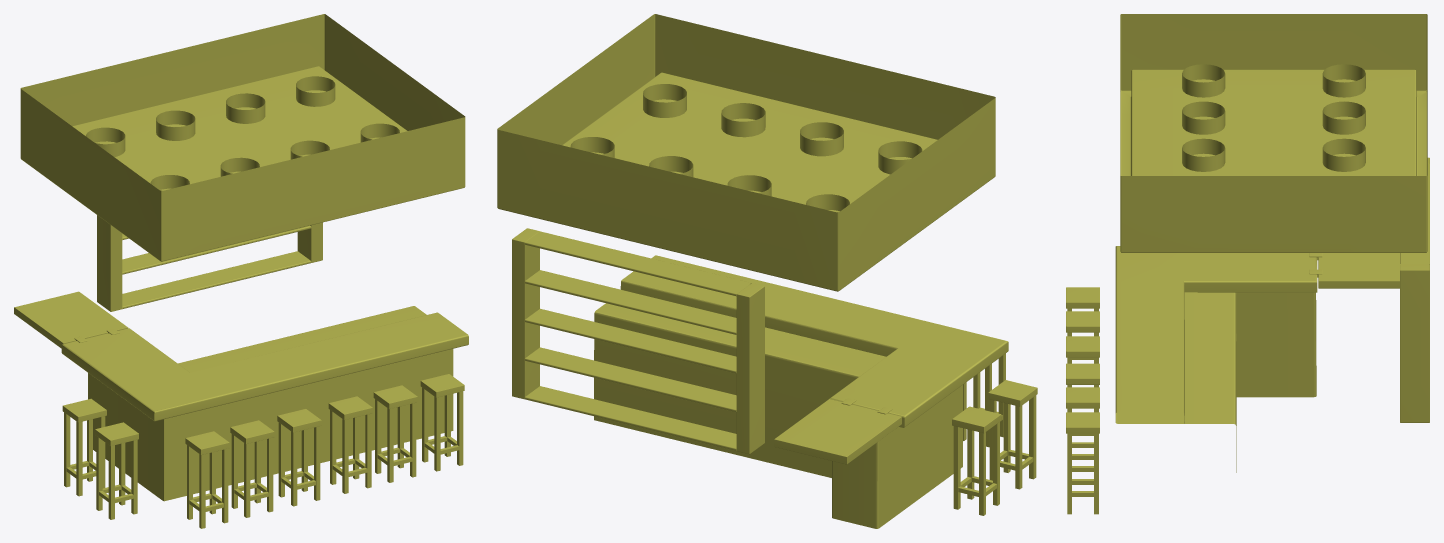
The model's file is Barra_Bar.fbx.
The picture shows the model from 3 angles, left to right: view 1: azimuth 30°, elevation 25°; view 2: azimuth 150°, elevation 25°; view 3: azimuth 270°, elevation 25°; orthographic projection. The views are drawn at different scales.
Parts seen in each view (by area): view 1: Estante_de_Luces_de_la_barra, Mostrador_Barra, Estante_Botellas, Puerta_Barra, Silla2, Silla1, Silla5, Silla4, Silla3, Silla6, Silla, Silla7; view 2: Estante_de_Luces_de_la_barra, Mostrador_Barra, Estante_Botellas, Puerta_Barra, Silla7, Silla6, Silla; view 3: Estante_de_Luces_de_la_barra, Mostrador_Barra, Estante_Botellas, Puerta_Barra, Silla3, Silla4, Silla5, Silla, Silla2, Silla1.
Boxes of the visible parts, bbox=[...] form: Estante_de_Luces_de_la_barra: bbox=[20, 14, 465, 261]; Mostrador_Barra: bbox=[61, 306, 468, 501]; Estante_Botellas: bbox=[97, 215, 322, 311]; Puerta_Barra: bbox=[14, 291, 128, 348]; Silla2: bbox=[277, 409, 321, 506]; Silla1: bbox=[230, 420, 274, 517]; Silla5: bbox=[328, 396, 372, 493]; Silla4: bbox=[373, 385, 417, 482]; Silla3: bbox=[420, 374, 464, 471]; Silla6: bbox=[95, 422, 138, 519]; Silla: bbox=[185, 431, 229, 528]; Silla7: bbox=[62, 398, 106, 496]; Estante_de_Luces_de_la_barra: bbox=[497, 14, 995, 291]; Mostrador_Barra: bbox=[594, 255, 1008, 528]; Estante_Botellas: bbox=[512, 228, 764, 454]; Puerta_Barra: bbox=[774, 398, 901, 464]; Silla7: bbox=[952, 406, 1001, 515]; Silla6: bbox=[988, 380, 1037, 489]; Silla: bbox=[963, 353, 1005, 447]; Estante_de_Luces_de_la_barra: bbox=[1120, 14, 1427, 252]; Mostrador_Barra: bbox=[1115, 246, 1317, 472]; Estante_Botellas: bbox=[1400, 157, 1429, 422]; Puerta_Barra: bbox=[1309, 253, 1399, 288]; Silla3: bbox=[1066, 412, 1099, 514]; Silla4: bbox=[1066, 387, 1099, 471]; Silla5: bbox=[1066, 363, 1099, 447]; Silla: bbox=[1066, 287, 1099, 359]; Silla2: bbox=[1066, 336, 1099, 363]; Silla1: bbox=[1066, 311, 1099, 336].
Bounding box in the file's own units: 399 × 353 × 330.
